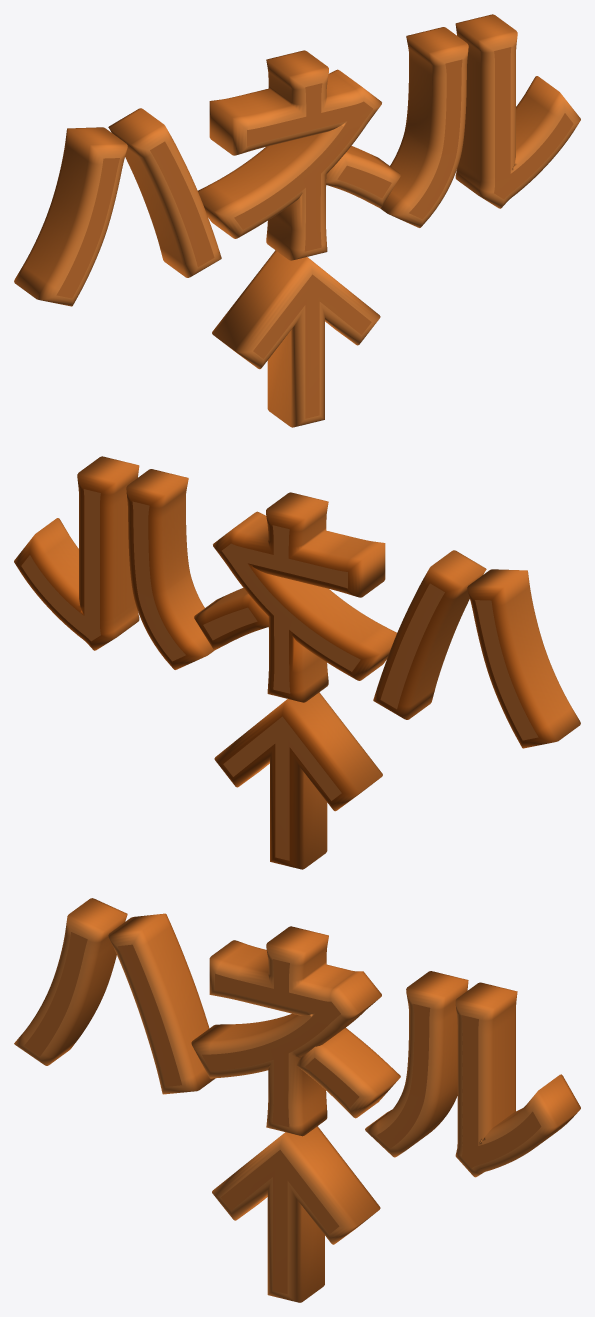
File: haneru.obj
3 views of the same model, one above another, from view 1: azimuth 30°, elevation 25°; view 2: azimuth 150°, elevation 25°; view 3: azimuth 330°, elevation 25° (orthographic).
Parts seen in each view (by area): view 1: テキスト; view 2: テキスト; view 3: テキスト.
Boxes of the visible parts, x1,y1,x2,y2 form: テキスト: (14,14,580,427); テキスト: (14,456,580,869); テキスト: (14,898,580,1302).
Size of the model in its own units: 2.92 by 1.8 by 0.3.
1 material, 1 textured.
